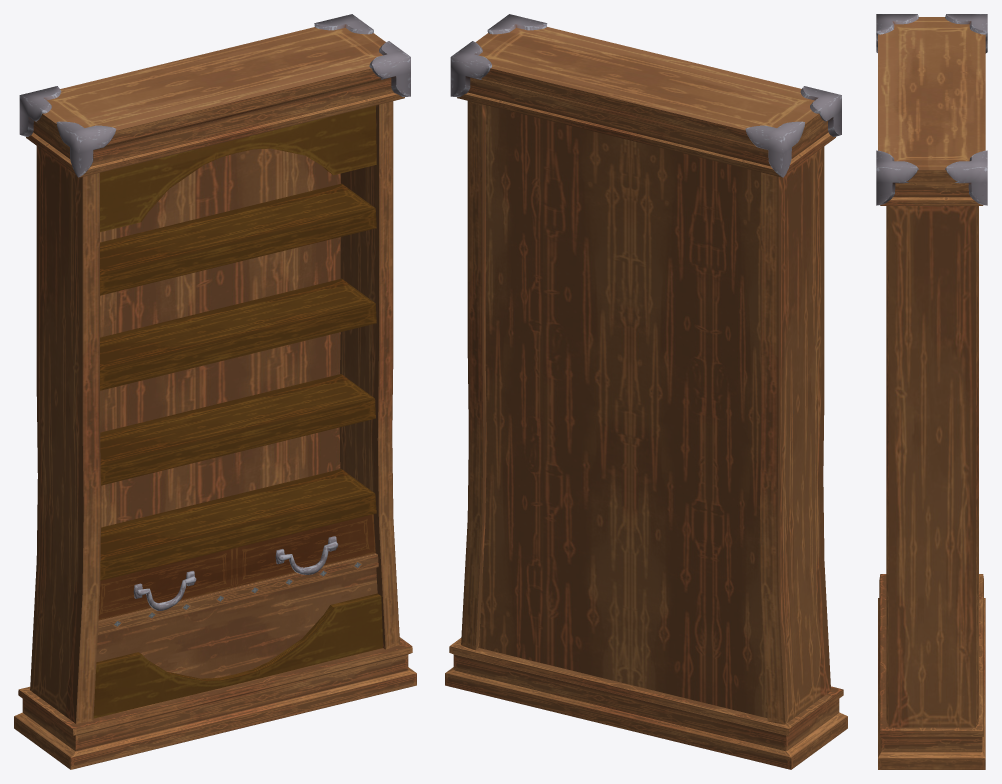
File: Bookcase_2.gltf
3 renders of one model, left to right at view 1: azimuth 30°, elevation 25°; view 2: azimuth 150°, elevation 25°; view 3: azimuth 270°, elevation 25°, orthographic. The views are drawn at different scales.
Parts seen in each view (by area): view 1: Bookcase_2; view 2: Bookcase_2; view 3: Bookcase_2.
Part boxes in pixels (left/top/right/bottom): Bookcase_2: left=14, top=14, right=416, bottom=769; Bookcase_2: left=445, top=14, right=847, bottom=769; Bookcase_2: left=876, top=14, right=987, bottom=769.
Bounding box in the file's own units: 1.46 × 2.54 × 0.429.
Materials: 2 (2 with a texture image).
